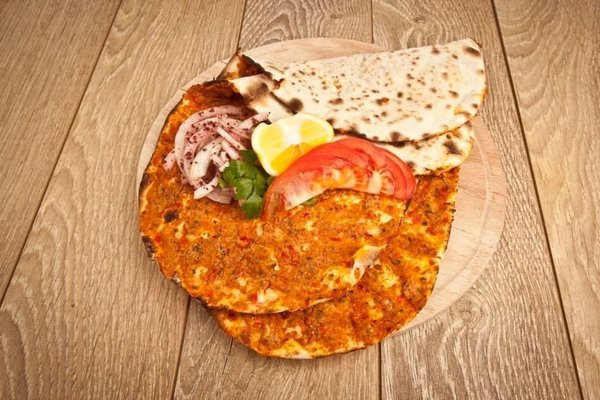curry: (2, 0, 591, 389)
sandwich: (137, 47, 475, 359)
